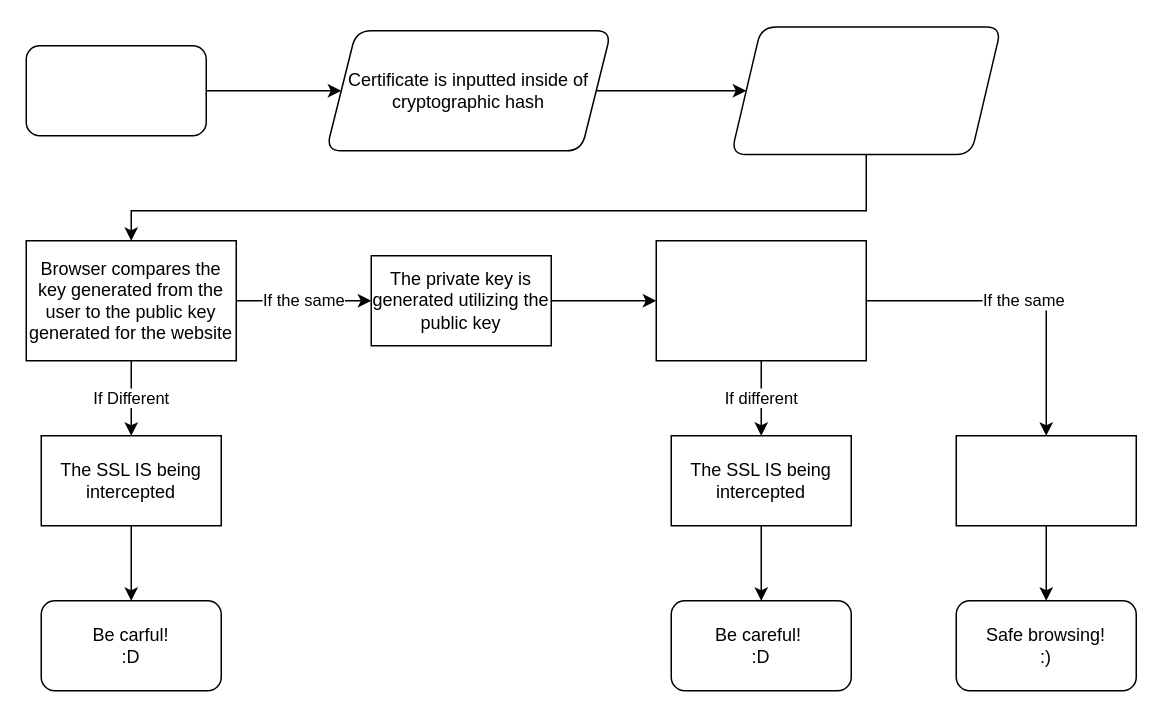
Image size: 1163x717. Some labels were removed from this diagram. The centre of each missing label's shape, as x and y in pixels:
"Hash outputs a unique key called a fingerprint" goes at (x=865, y=90).
"The private key on the remote server is compared to the private key generated" goes at (x=760, y=300).
"The SSL is NOT being intercepted" goes at (x=1045, y=480).
"User opens a webpage" goes at (x=115, y=90).
